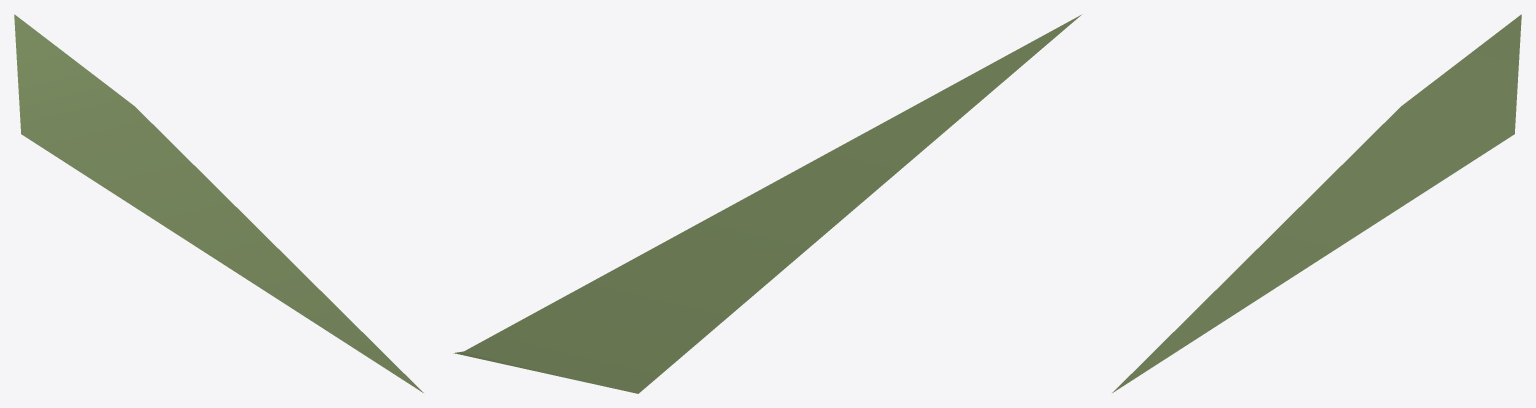
Rendered from breeze_leaf.glb.
3 renders of one model, left to right at view 1: azimuth 30°, elevation 25°; view 2: azimuth 150°, elevation 25°; view 3: azimuth 330°, elevation 25°, orthographic. The views are drawn at different scales.
Visible parts, largest first — view 1: Breeze_Leaf; view 2: Breeze_Leaf; view 3: Breeze_Leaf.
Part boxes in pixels (bbox=[...]): Breeze_Leaf: bbox=[14, 14, 423, 392]; Breeze_Leaf: bbox=[453, 14, 1082, 393]; Breeze_Leaf: bbox=[1112, 14, 1521, 392].
Bounding box in the file's own units: 0.036 × 0.024 × 0.225.
